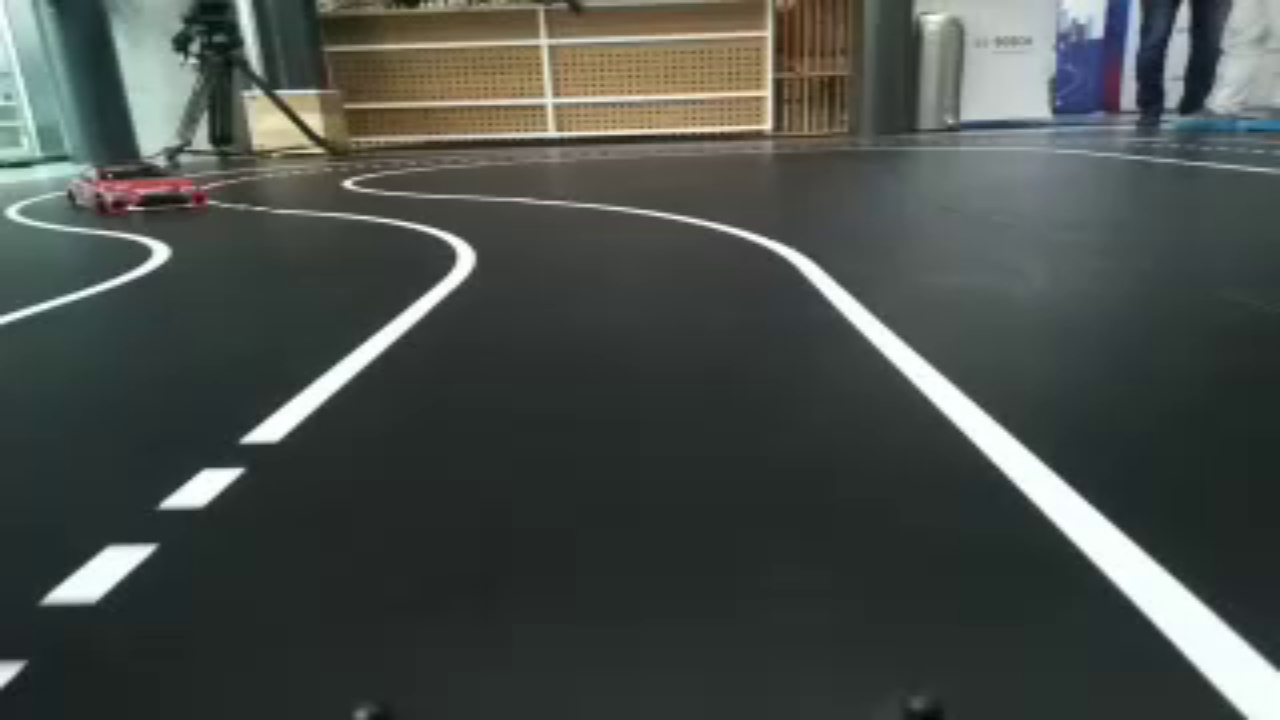car: (67, 162, 211, 220)
